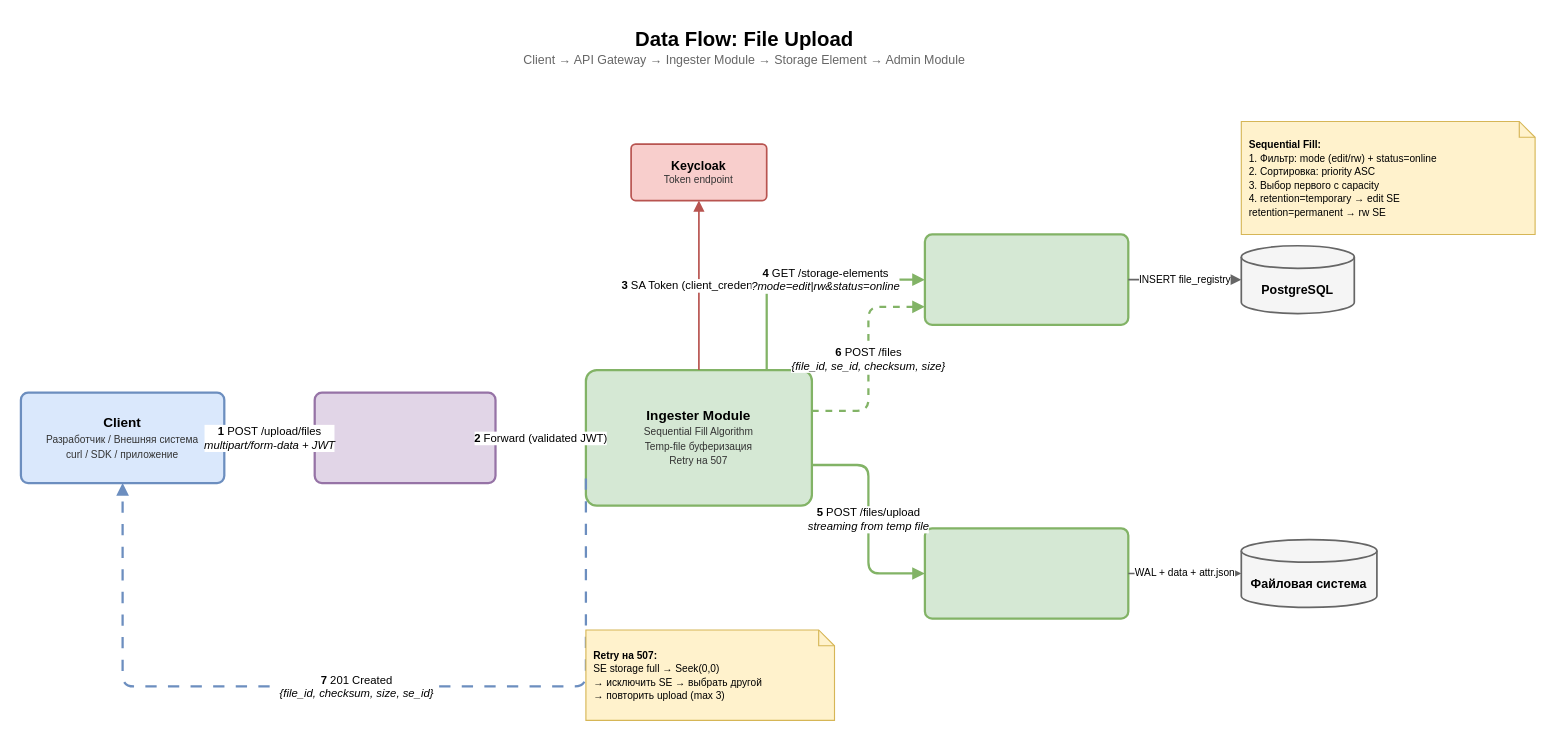
This 1555x740 diagram has some shape labels left out. The shapes that lost their labels are listed below. From the top down, each one's box as (x1, y1, x2, y2) in pixels, then its label:
(923, 233, 1129, 325): Admin Module Реестр SE и файлов PostgreSQL
(313, 391, 496, 484): API Gateway Envoy Gateway TLS, JWT validation
(923, 527, 1129, 619): Storage Element WAL + attr.json Физическое хранение
